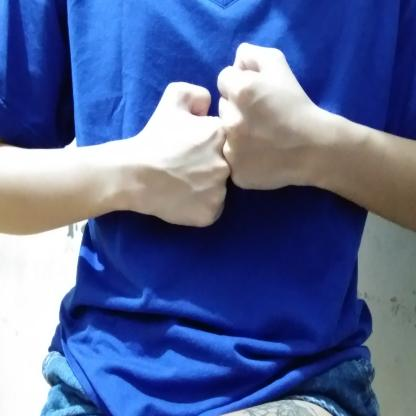brother: (126, 33, 328, 238)
